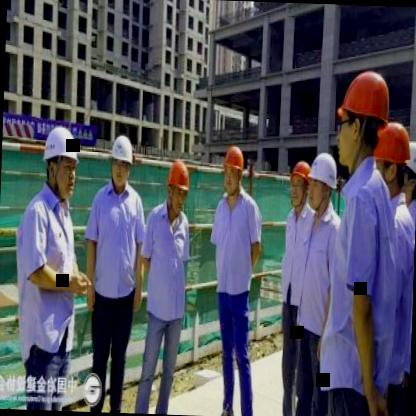helmet: (334, 73, 398, 182), (370, 115, 416, 199), (38, 122, 84, 200), (164, 153, 192, 219), (308, 152, 339, 211), (107, 130, 136, 191), (219, 140, 248, 200), (394, 138, 416, 202), (289, 156, 313, 204)
